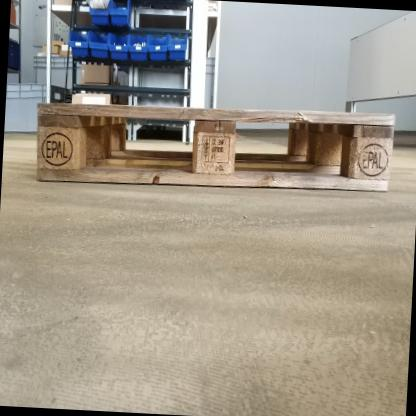BoxFace: (32, 96, 397, 199)
